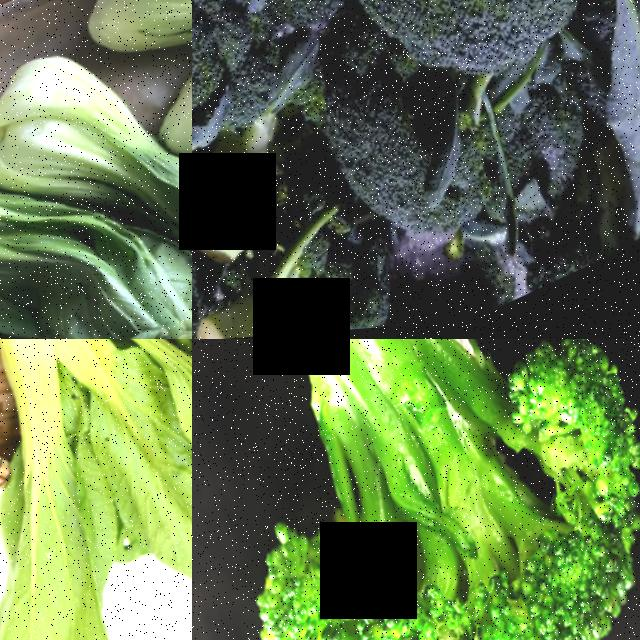bok choy: (0, 28, 192, 339), (0, 339, 192, 640), (77, 0, 192, 125), (59, 339, 192, 431)
broccoli: (192, 339, 640, 640), (289, 30, 500, 286), (299, 0, 627, 96), (192, 207, 417, 339), (192, 0, 304, 177), (235, 0, 383, 39)
